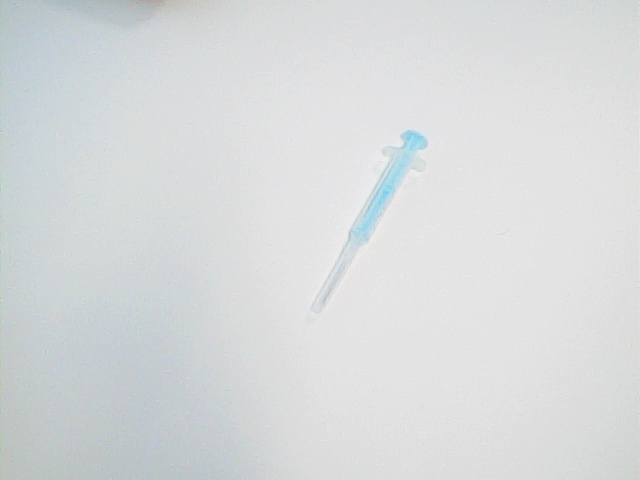syringe: (305, 124, 437, 319)
